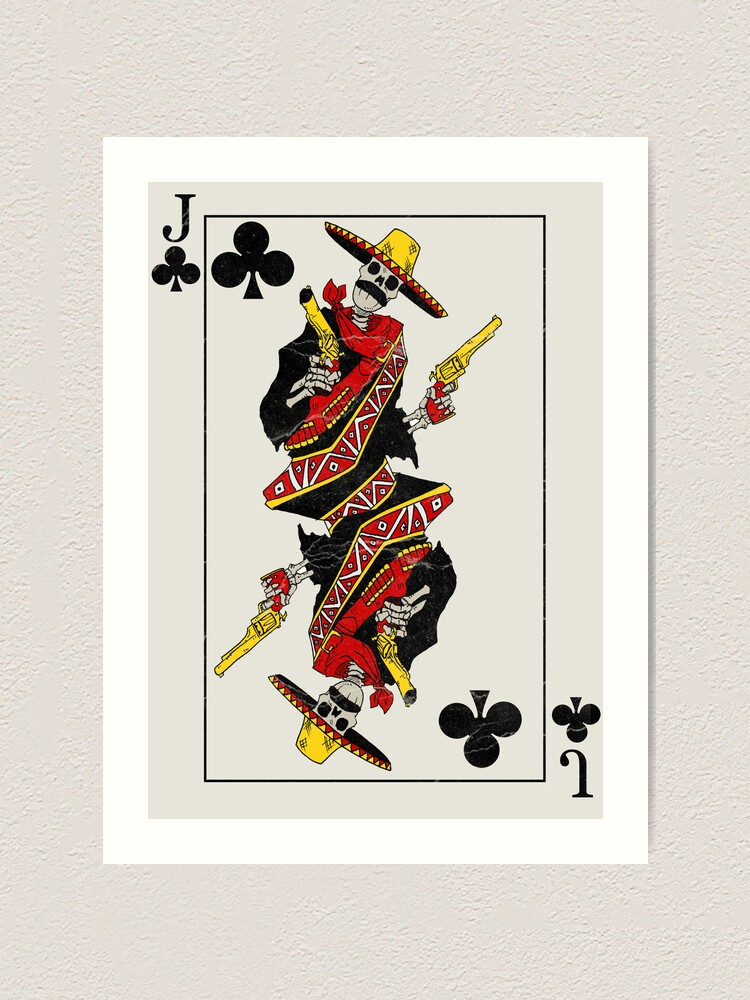jack of clubs: (147, 182, 606, 815)
